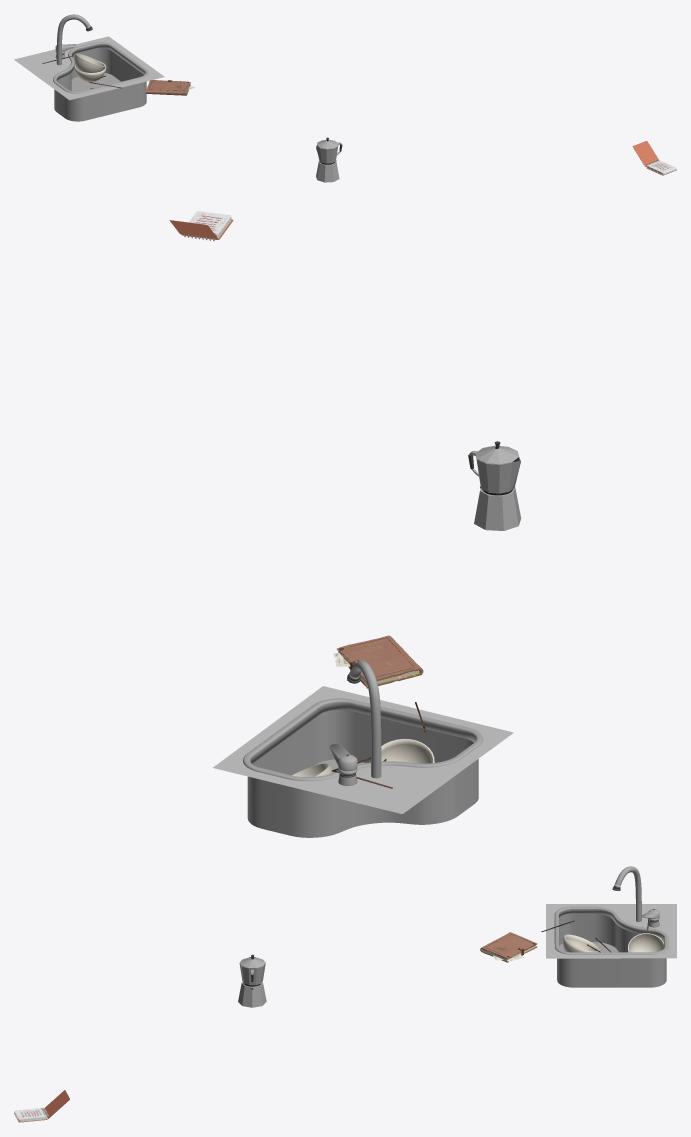
File: interactive.glb
The picture shows the model from 3 angles, top to bottom: view 1: azimuth 30°, elevation 25°; view 2: azimuth 150°, elevation 25°; view 3: azimuth 270°, elevation 25°; orthographic projection. The views are drawn at different scales.
Visible parts, largest first — view 1: 灶台.001, 灶台.002, 舊筆記本, 摩卡壺.003, 水龍頭, 碗筷.003, 摩卡壺.001, Cube.119, 碗筷.002; view 2: 灶台.001, 灶台.002, 舊筆記本, 摩卡壺.003, 摩卡壺.001, 水龍頭, 碗筷; view 3: 灶台.001, 灶台.002, 舊筆記本, 摩卡壺.003, 碗筷.003, 摩卡壺.001, 水龍頭, 碗筷.
Boxes of the visible parts, x1,y1,x2,y2 form: 灶台.001: (14, 36, 164, 121); 灶台.002: (53, 42, 148, 93); 舊筆記本: (146, 80, 190, 95); 摩卡壺.003: (316, 139, 338, 163); 水龍頭: (56, 14, 92, 65); 碗筷.003: (74, 53, 104, 72); 摩卡壺.001: (316, 161, 339, 182); Cube.119: (632, 141, 658, 166); 碗筷.002: (74, 60, 106, 82); 灶台.001: (213, 686, 513, 837); 灶台.002: (243, 698, 483, 781); 舊筆記本: (336, 635, 423, 688); 摩卡壺.003: (475, 445, 520, 493); 摩卡壺.001: (474, 487, 521, 530); 水龍頭: (347, 660, 381, 778); 碗筷: (370, 738, 434, 763); 灶台.001: (546, 904, 676, 987); 灶台.002: (554, 906, 668, 954); 舊筆記本: (480, 932, 537, 962); 摩卡壺.003: (239, 957, 265, 985); 碗筷.003: (628, 933, 663, 952); 摩卡壺.001: (238, 982, 266, 1007); 水龍頭: (612, 866, 641, 921); 碗筷: (563, 934, 599, 952).
Bounding box in the file's own units: 3.9 × 0.7717 × 4.98.
Materials: 20 (4 with a texture image).
